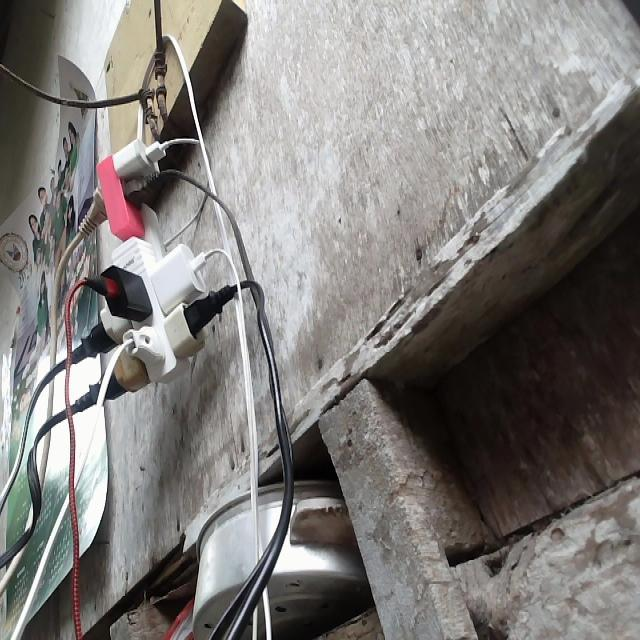-: (75, 135, 237, 412)
